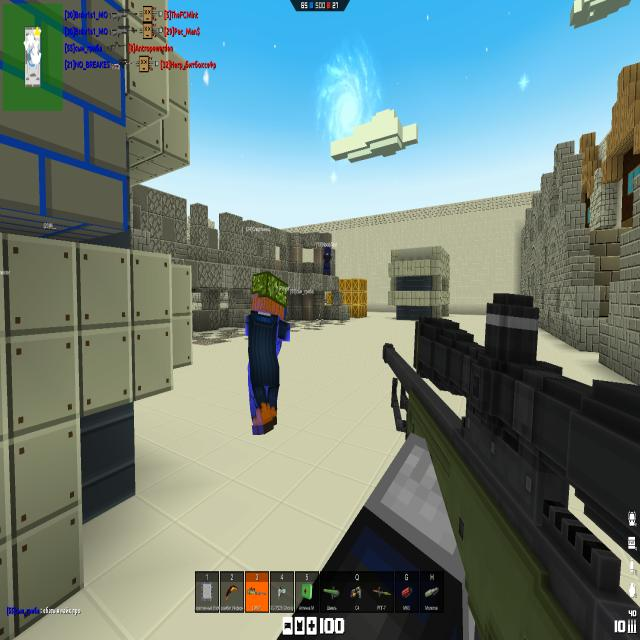player: (244, 274, 290, 434), (323, 247, 332, 275)
